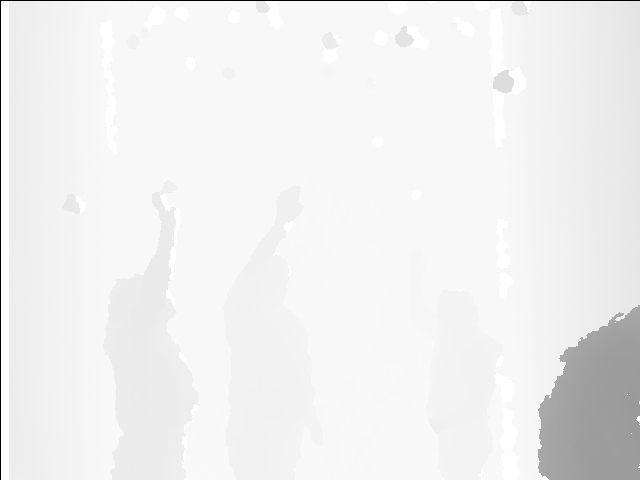hand: (274, 182, 306, 226), (150, 180, 178, 225), (407, 248, 431, 285)
